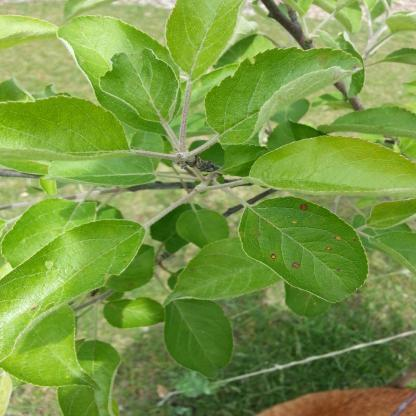Apple rust leaf: (260, 25, 406, 136)
